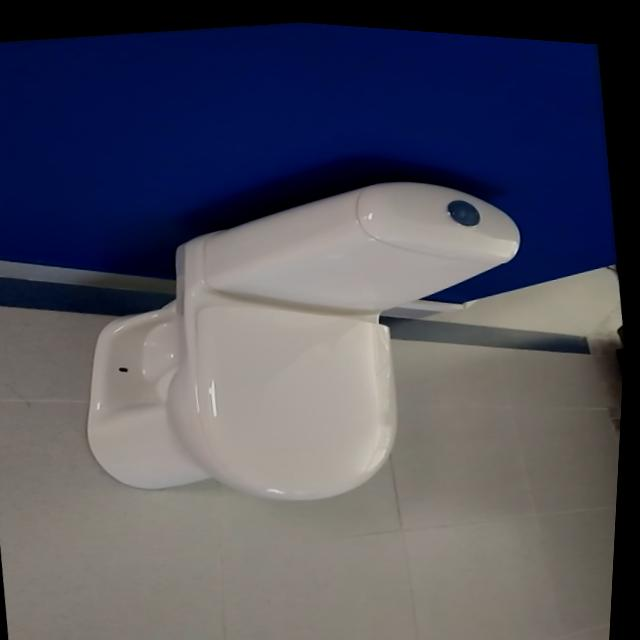toilet: (51, 131, 572, 548)
